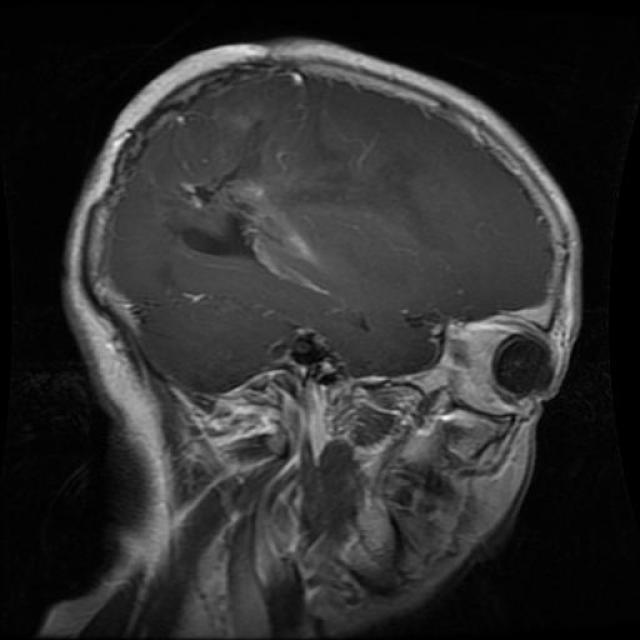glioma: (174, 172, 348, 292)
